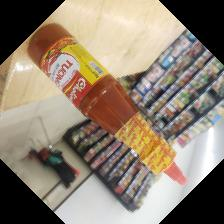Tuong: (26, 21, 192, 189)
